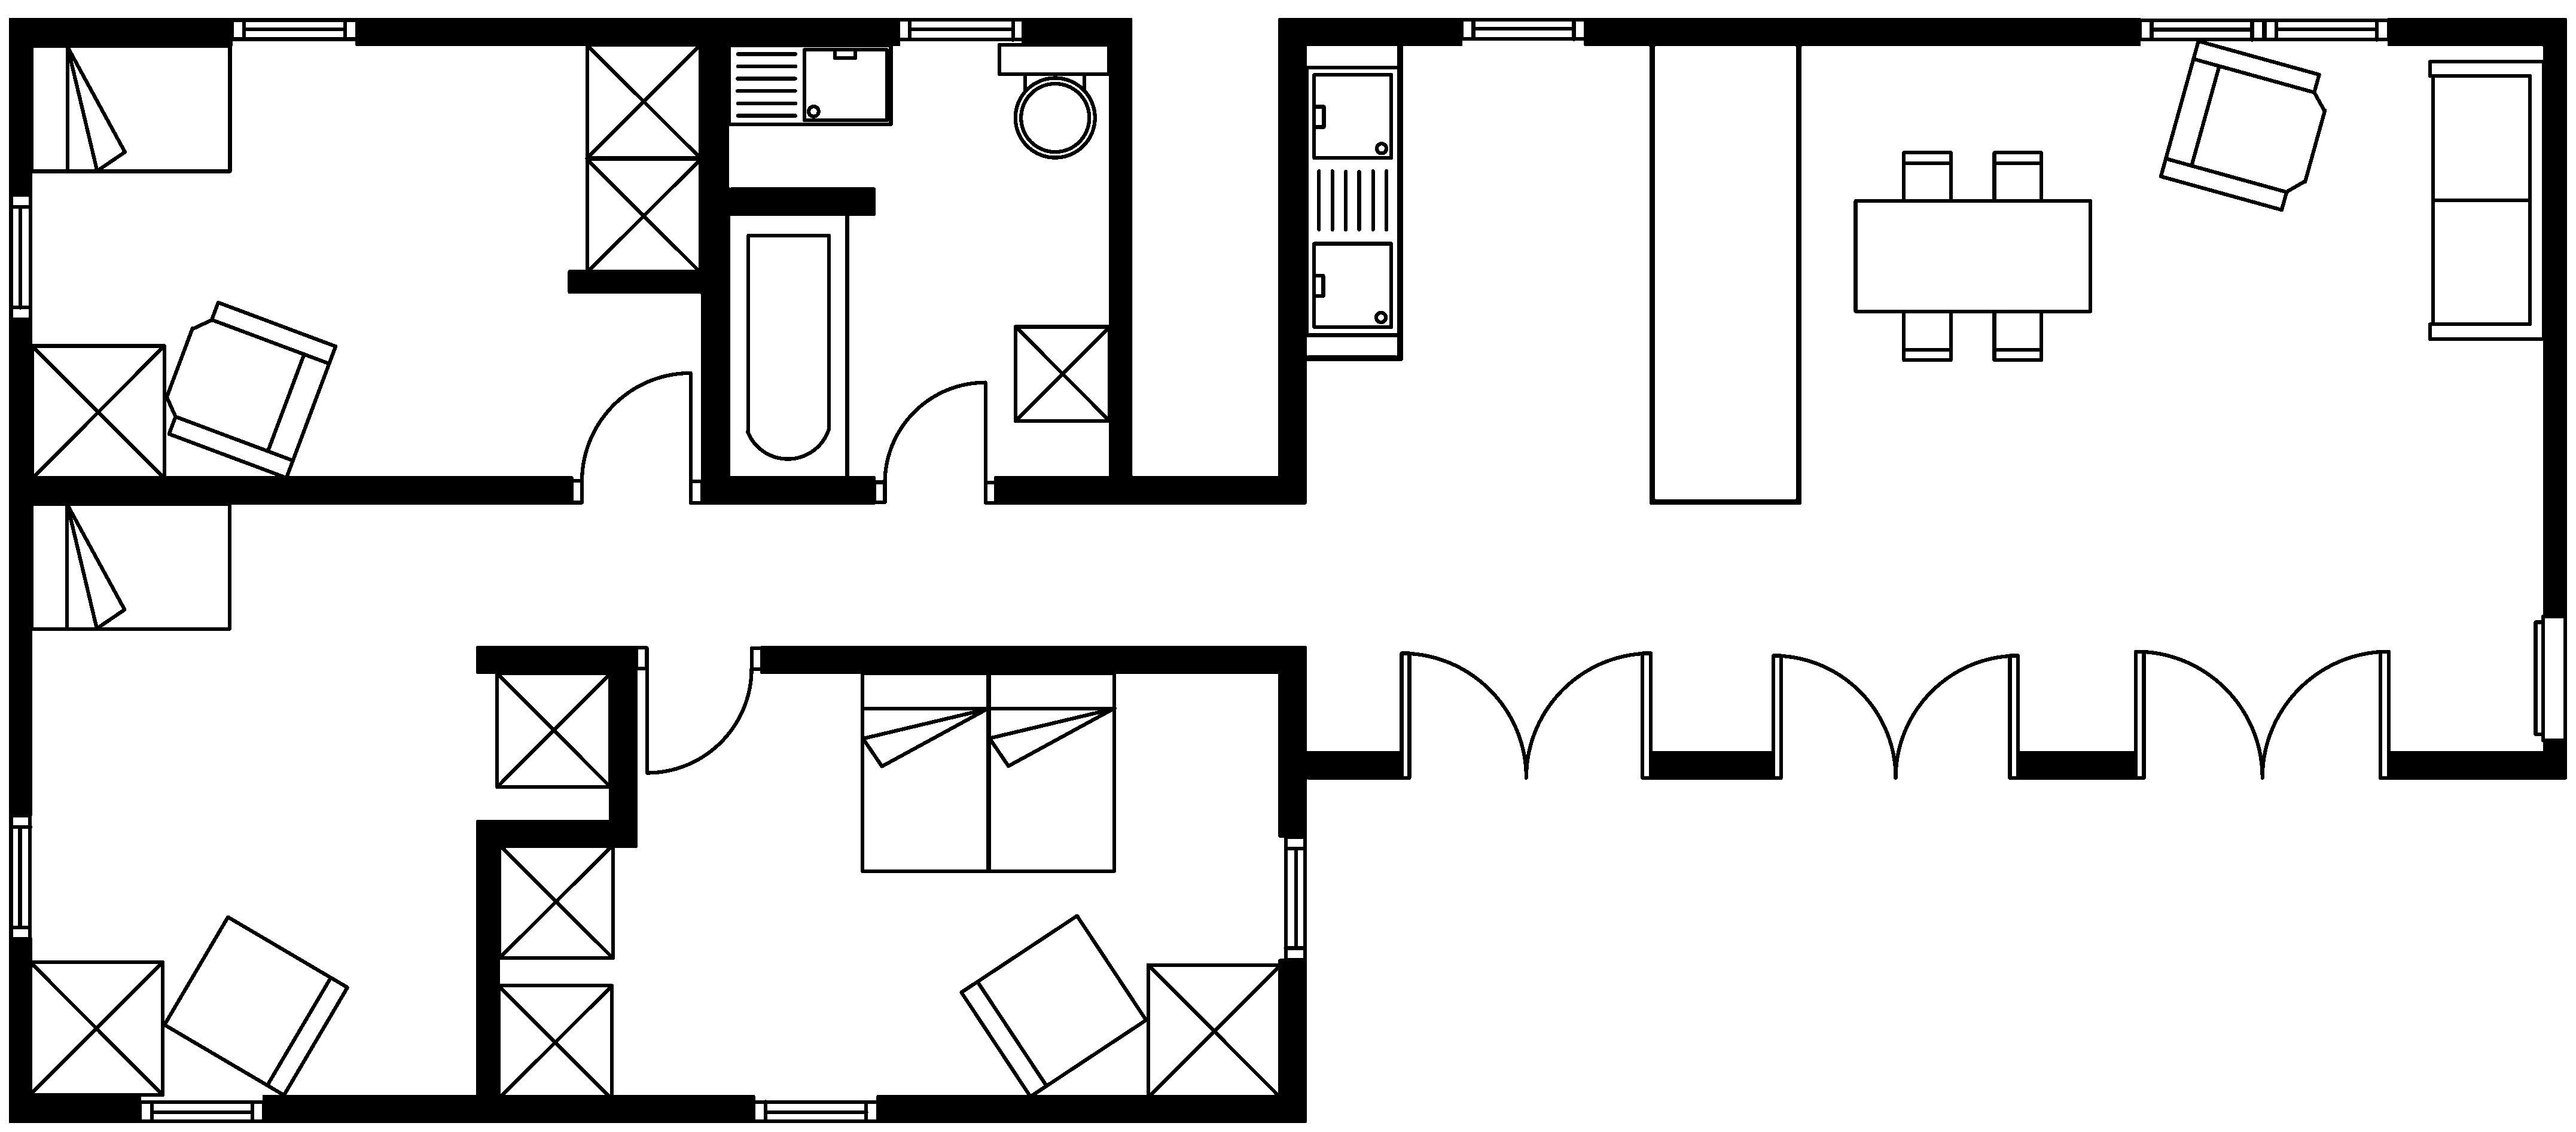armchair: (163, 299, 337, 480), (2159, 38, 2328, 212)
bed: (30, 43, 232, 174), (859, 670, 991, 872), (986, 670, 1117, 872), (28, 501, 232, 631)
coffee_table: (26, 959, 164, 1097), (1145, 963, 1283, 1099), (30, 343, 166, 480), (494, 982, 614, 1101), (583, 41, 702, 161), (494, 670, 613, 789), (496, 841, 614, 959), (585, 156, 702, 274), (1012, 324, 1112, 422)
dining_table: (1853, 150, 2093, 361)
large_sink: (997, 41, 1111, 158)
large_sofa: (2426, 59, 2545, 340)
sink: (726, 43, 894, 127)
small_sofa: (959, 913, 1148, 1099), (161, 915, 350, 1097)
tub: (726, 210, 849, 483)
twin_sink: (1304, 64, 1401, 337)
